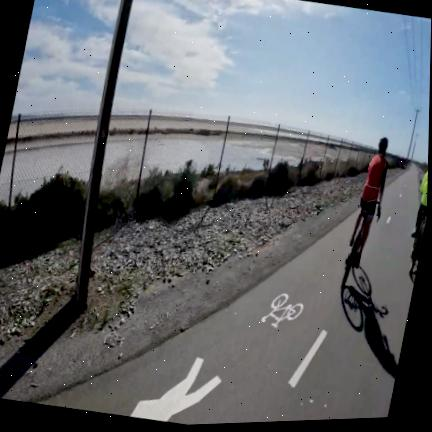Bike_Lane: (47, 167, 419, 425)
